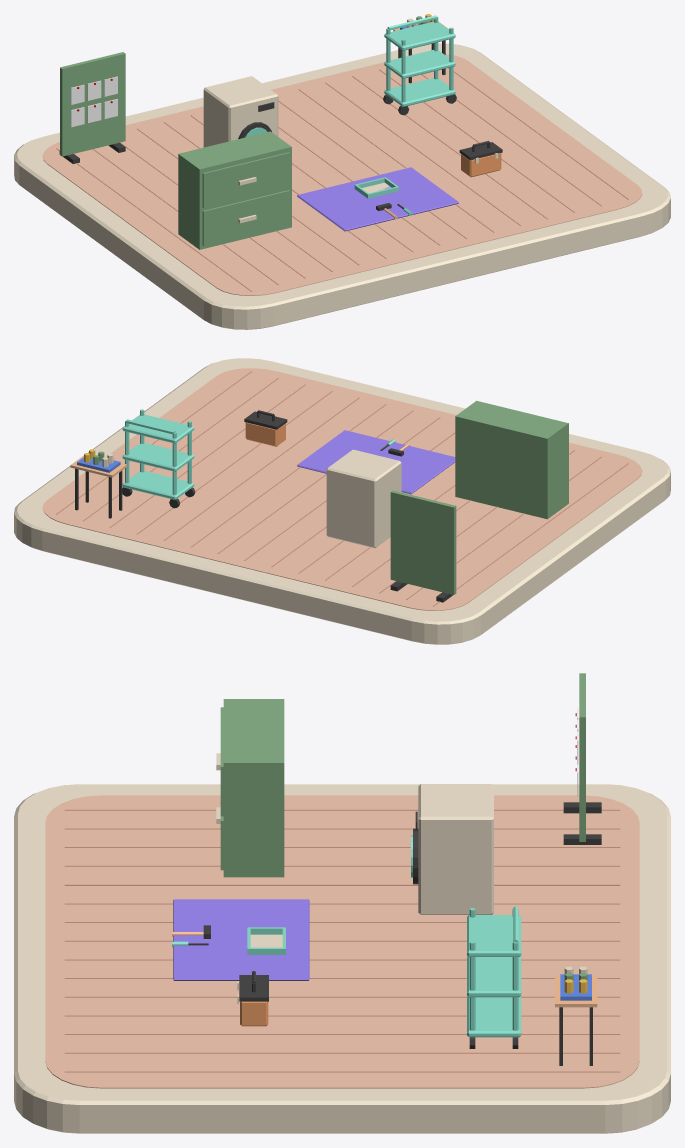
The picture shows the model from 3 angles, top to bottom: view 1: azimuth 30°, elevation 25°; view 2: azimuth 150°, elevation 25°; view 3: azimuth 270°, elevation 25°; orthographic projection. The views are drawn at different scales.
Visible parts, largest first — view 1: COM-02 Floor Surface, COM-01 Rounded Base Direct, Cabinet, Rug, Panel, Washing machine, Tray.002, Tray.001, Tray, Box; view 2: COM-02 Floor Surface, COM-01 Rounded Base Direct, Cabinet, Panel, Washing machine, Rug, Tray, Tray.001, Tray.002, Box, Lid; view 3: COM-02 Floor Surface, COM-01 Rounded Base Direct, Cabinet, Washing machine, Rug, Tray.002, Tray, Tray.001, Panel, Plank seam.014, Plank seam.013, Plank seam.004 (+10 smaller).
Part boxes in pixels (x1,y1,x2,y2): COM-02 Floor Surface: (42,54,642,295); COM-01 Rounded Base Direct: (14,43,670,329); Cabinet: (178,131,291,249); Rug: (297,167,458,231); Panel: (60,52,125,156); Washing machine: (203,76,278,147); Tray.002: (384,21,455,50); Tray.001: (384,49,455,78); Tray: (384,78,455,106); Box: (461,153,501,177); COM-02 Floor Surface: (42,368,642,610); COM-01 Rounded Base Direct: (14,358,670,644); Cabinet: (455,400,568,519); Panel: (390,490,456,594); Washing machine: (326,449,401,548); Rug: (297,430,455,494); Tray: (122,471,194,499); Tray.001: (122,442,194,471); Tray.002: (122,414,194,443); Box: (245,422,285,446); Lid: (244,411,287,429); COM-02 Floor Surface: (45,795,639,1088); COM-01 Rounded Base Direct: (14,784,670,1133); Cabinet: (216,699,284,877); Washing machine: (418,784,493,914); Rug: (173,899,309,980); Tray.002: (467,915,521,956); Tray: (467,996,521,1037); Tray.001: (467,956,521,997); Panel: (579,673,585,841); Plank seam.014: (64,1071,620,1072); Plank seam.013: (64,1052,620,1053); Plank seam.004: (64,884,620,885).
Bounding box in the file's own units: 6 × 1.44 × 5.2.
1 material, 1 textured.
